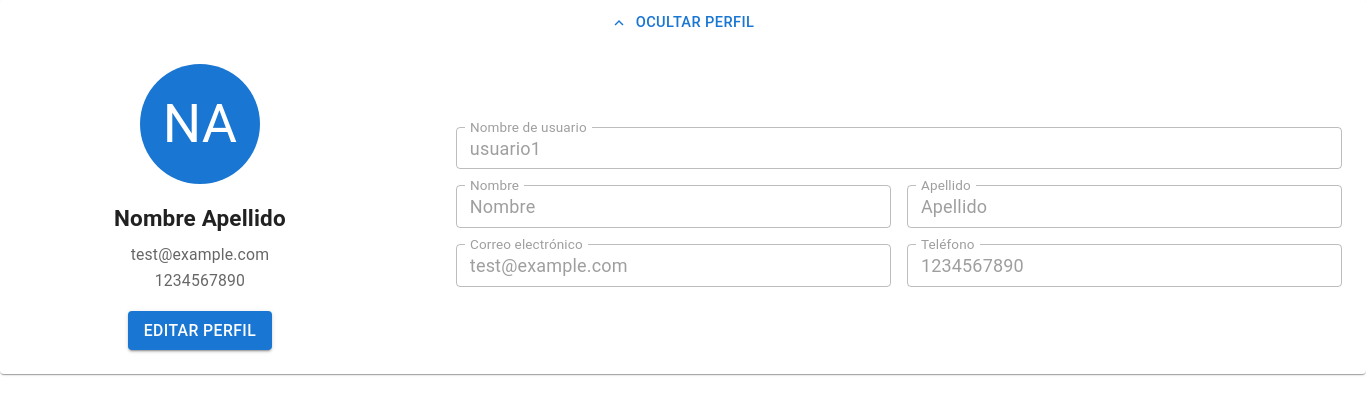
it: ProfileSection › el botón alterna entre 'Editar perfil' y 'Guardar perfil' y guarda en la segunda pulsación
Click the button "Editar perfil". click: (200, 330)
box: [128,311,272,350]
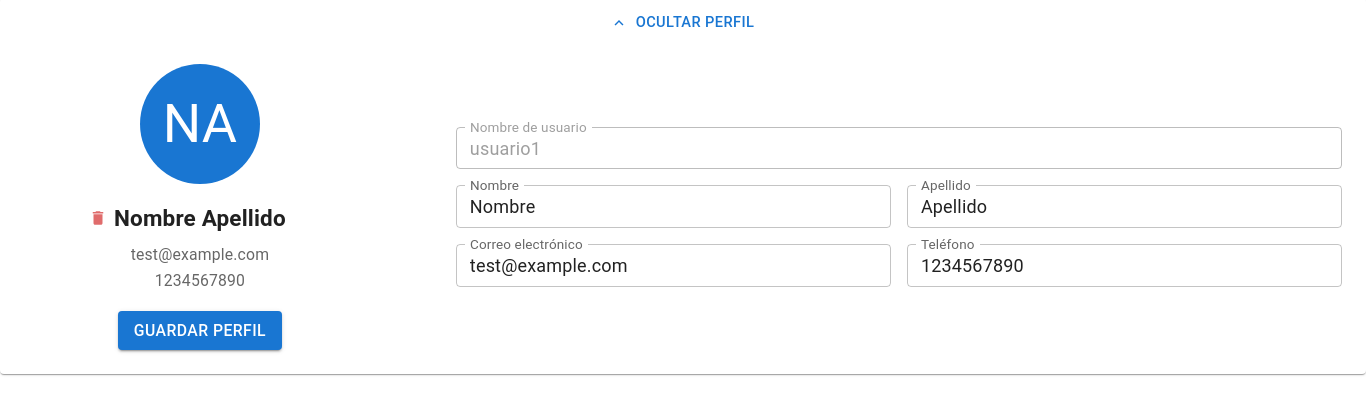
Check: the button named "Editar perfil" reads "Guardar perfil"
Click the button named "Editar perfil". click: (200, 330)
box: [118,311,282,350]
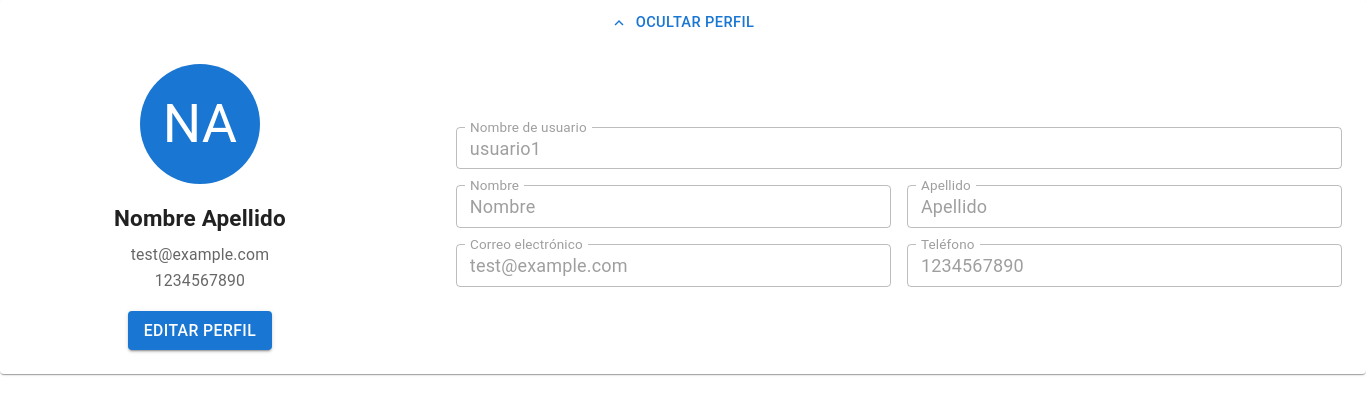
Check: the button "Editar perfil" is shown, box [128,311,272,350]
